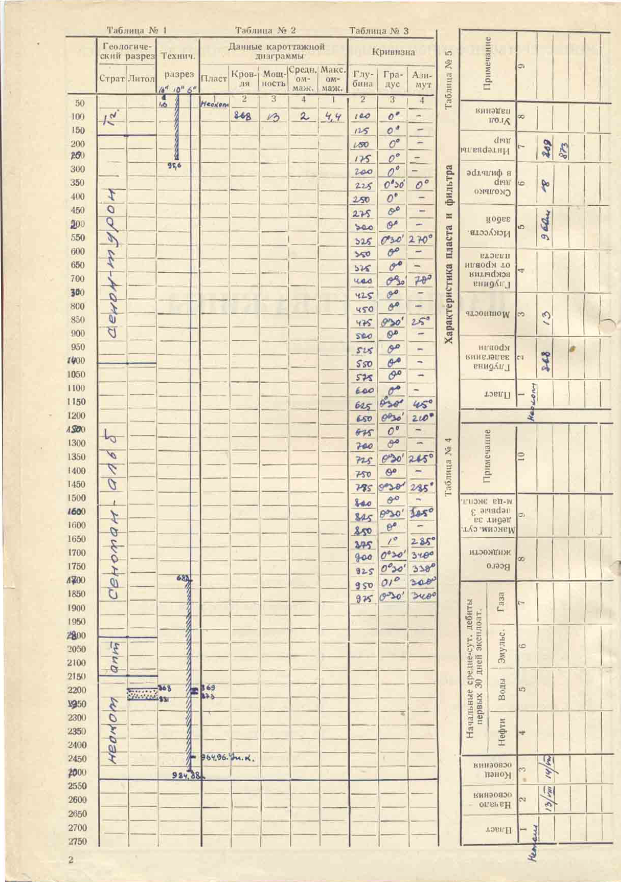Bordered: (348, 38, 439, 610)
